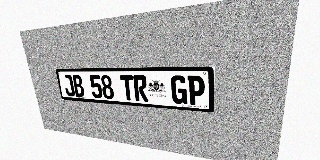5: (89, 75, 103, 99)
8: (100, 75, 114, 99)
B: (72, 75, 85, 97)
G: (171, 75, 187, 104)
J: (62, 75, 75, 97)
P: (187, 76, 205, 106)
R: (133, 75, 148, 102)
T: (120, 75, 135, 101)
